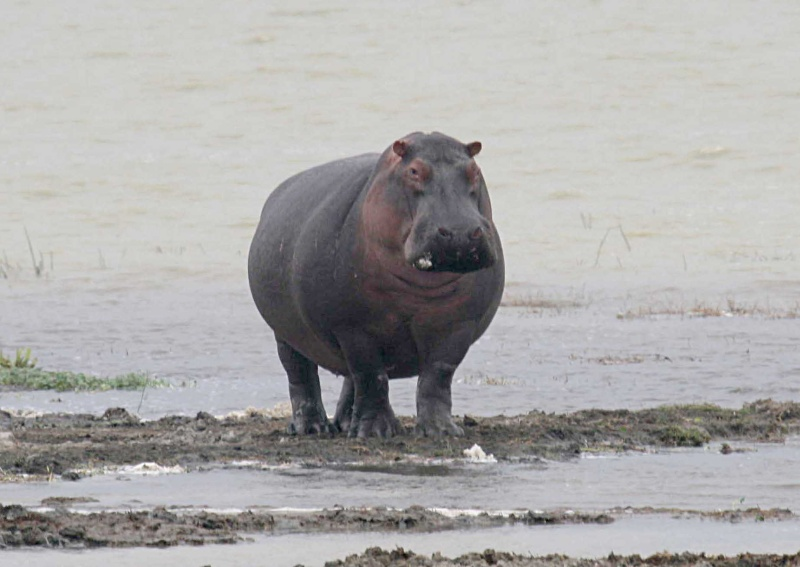hipopotamo: (247, 120, 509, 441)
